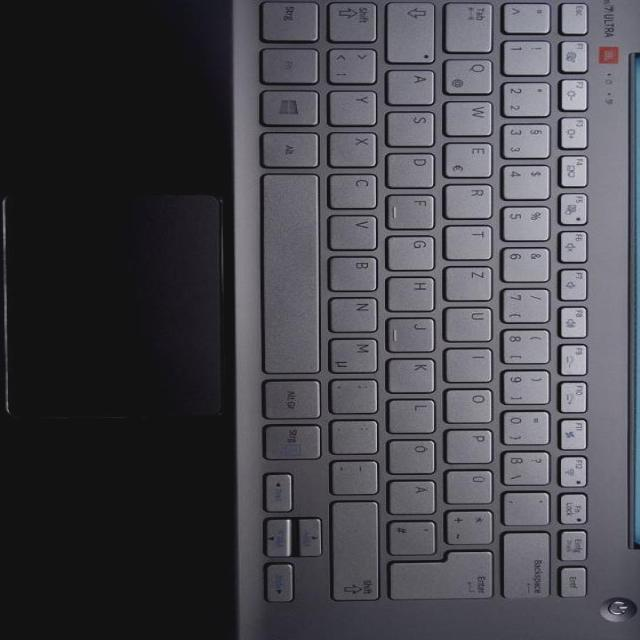0: (504, 407, 554, 443)
1: (504, 37, 556, 73)
2: (506, 78, 556, 116)
3: (504, 119, 554, 157)
4: (504, 162, 556, 198)
5: (504, 202, 554, 238)
6: (504, 243, 554, 279)
7: (503, 285, 555, 321)
8: (504, 326, 554, 362)
9: (504, 366, 554, 402)
a: (389, 66, 439, 104)
accent: (505, 488, 554, 524)
ae: (390, 477, 440, 513)
alt-left: (262, 129, 322, 167)
altgr-right: (265, 376, 325, 418)
b: (332, 252, 382, 290)
c: (332, 170, 382, 208)
caret: (506, 0, 556, 32)
comma: (332, 375, 382, 411)
d: (389, 150, 439, 186)
del: (504, 529, 556, 598)
e: (446, 138, 498, 176)
enter: (391, 547, 499, 598)
f: (390, 191, 439, 227)
g: (389, 232, 439, 268)
h: (389, 273, 439, 309)
hash: (390, 517, 440, 553)
i: (447, 345, 497, 381)
j: (390, 314, 440, 350)
k: (390, 355, 440, 391)
keyboard: (240, 0, 630, 617)
l: (390, 396, 440, 432)
less: (330, 45, 382, 83)
m: (331, 333, 383, 371)
minus: (334, 456, 383, 494)
n: (332, 293, 382, 331)
o: (447, 385, 497, 421)
oe: (390, 436, 440, 472)
p: (447, 426, 497, 462)
plus: (448, 507, 497, 543)
point: (333, 417, 382, 453)
q: (447, 55, 497, 93)
r: (447, 181, 497, 217)
s: (389, 107, 439, 145)
shift-left: (331, 0, 382, 40)
shift-lock: (389, 0, 441, 62)
shift-right: (334, 496, 384, 601)
space: (263, 170, 325, 372)
ss: (504, 446, 554, 482)
strg-left: (263, 0, 325, 40)
strg-right: (265, 421, 325, 459)
t: (447, 222, 497, 258)
tab: (447, 0, 499, 50)
u: (447, 303, 497, 339)
ue: (447, 466, 497, 502)
v: (332, 212, 382, 248)
w: (447, 97, 497, 133)
x: (330, 129, 382, 165)
y: (330, 86, 382, 124)
z: (447, 263, 497, 299)
